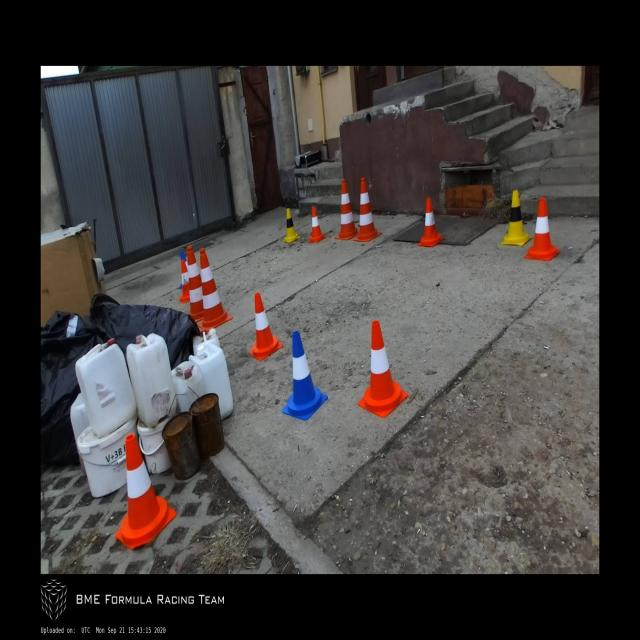blue_cone: (282, 331, 328, 420), (179, 252, 187, 290)
large_orange_cone: (198, 248, 233, 332), (353, 177, 382, 242), (335, 180, 359, 240), (186, 245, 204, 322)
orange_cone: (115, 434, 176, 549), (359, 321, 408, 417), (249, 293, 283, 361), (524, 198, 560, 260), (418, 198, 444, 246), (308, 206, 326, 243), (179, 261, 190, 303)
yellow_cone: (500, 190, 533, 246), (284, 208, 300, 242)
